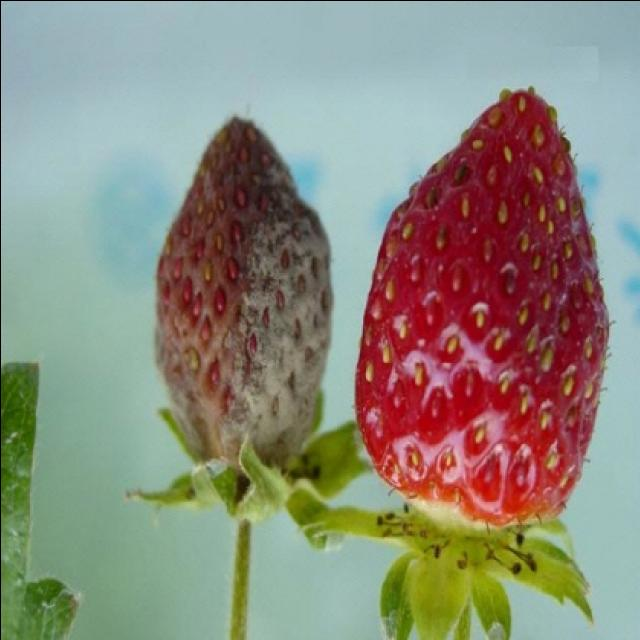Gray Mold: (152, 115, 332, 472)
